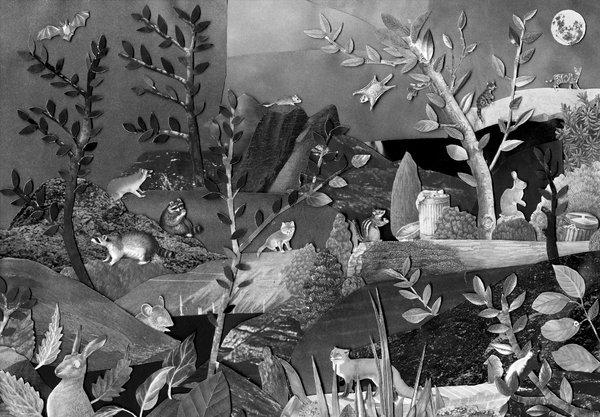bobcat: (543, 69, 600, 96)
fox: (325, 336, 427, 408)
house cat: (256, 219, 314, 267), (474, 77, 521, 133)
rabbit: (57, 333, 127, 413), (496, 177, 527, 240)
raccoon: (80, 218, 170, 283), (161, 188, 211, 246), (96, 170, 172, 207)
